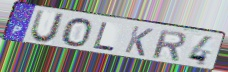4: (185, 34, 215, 67)
K: (123, 25, 155, 58)
L: (92, 20, 116, 52)
O: (60, 17, 93, 48)
R: (151, 28, 187, 63)
U: (28, 8, 67, 45)
